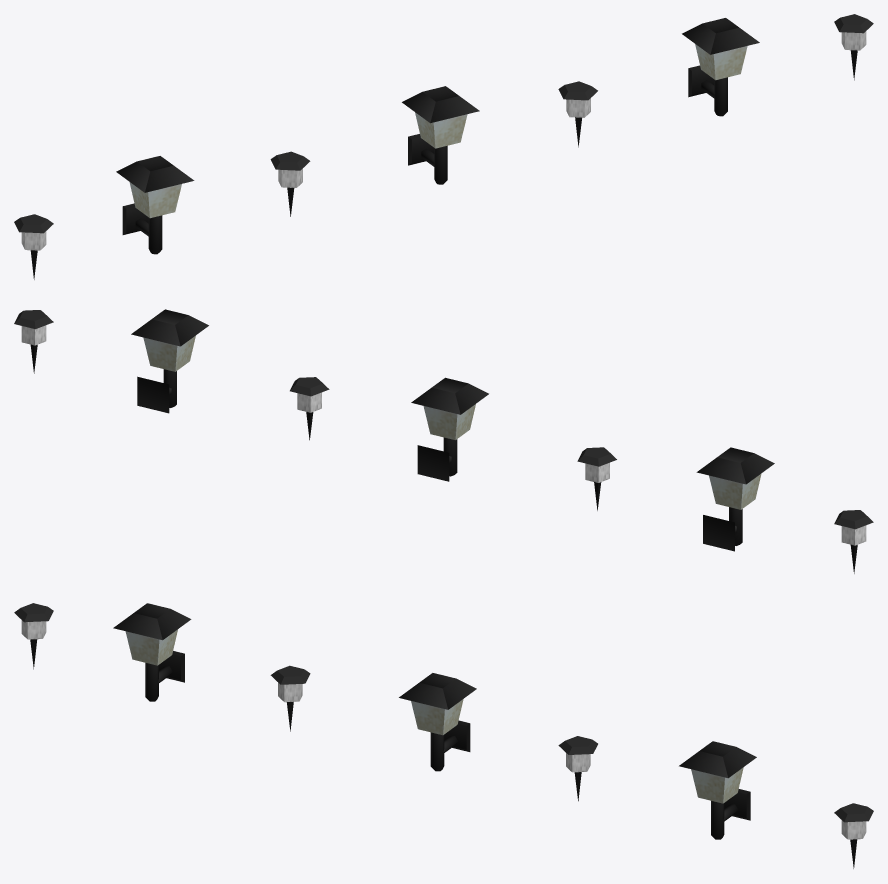
Rendered from Bundle_Outdoor_Lights.fbx.
3 views of the same model, one above another, from view 1: azimuth 30°, elevation 25°; view 2: azimuth 150°, elevation 25°; view 3: azimuth 330°, elevation 25° (orthographic).
Visible parts, largest first — view 1: Bundle_Outdoor_Light_1; view 2: Bundle_Outdoor_Light_1; view 3: Bundle_Outdoor_Light_1.
Part boxes in pixels (box(x1,y1,x2,y2)): Bundle_Outdoor_Light_1: box(14, 14, 873, 279); Bundle_Outdoor_Light_1: box(14, 309, 873, 573); Bundle_Outdoor_Light_1: box(14, 603, 873, 868).
Bounding box in the file's own units: 400 × 39.89 × 25.27.
